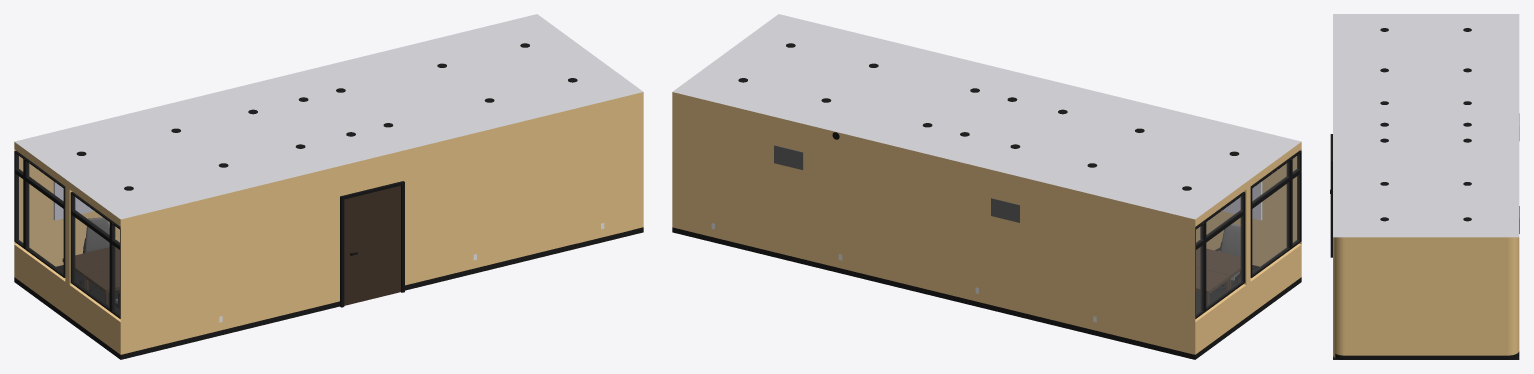
The model's file is RR Experience Room 2015.fbx.
3 views of the same model, side by side, from view 1: azimuth 30°, elevation 25°; view 2: azimuth 150°, elevation 25°; view 3: azimuth 270°, elevation 25° (orthographic). The views are drawn at different scales.
Visible parts, largest first — view 1: Walls.001, Ceiling.001, CurvedWall.001, Window.001, Door.001, Cube.012, DoorFrame.001, SittingStandingTable.005, SittingStandingTable.006, Plane.090, BigLightsOn.003; view 2: Walls.001, Ceiling.001, CurvedWall.001, Window.001, Cube.012, SittingStandingTable.006, BigLightsOn.003, SittingStandingTable.005, Hvac Wall Grill.004, Plane.070, Hvac Wall Grill.005, Whiteboard.003; view 3: Ceiling.001, CurvedWall.001, BigLightsOn.003, DoorFrame.001.
Part boxes in pixels (x1,y1,x2,y2): Walls.001: (14, 92, 643, 359); Ceiling.001: (14, 14, 643, 219); CurvedWall.001: (577, 94, 632, 248); Window.001: (18, 156, 119, 314); Door.001: (344, 185, 400, 305); Cube.012: (14, 150, 120, 318); DoorFrame.001: (340, 181, 404, 307); SittingStandingTable.005: (62, 247, 119, 288); SittingStandingTable.006: (84, 265, 119, 304); Plane.090: (85, 217, 109, 252); BigLightsOn.003: (76, 43, 577, 190); Walls.001: (672, 92, 1301, 359); Ceiling.001: (672, 14, 1301, 219); CurvedWall.001: (683, 97, 738, 247); Window.001: (1196, 156, 1297, 314); Cube.012: (1195, 150, 1301, 318); SittingStandingTable.006: (1196, 247, 1240, 289); BigLightsOn.003: (738, 43, 1239, 190); SittingStandingTable.005: (1196, 267, 1230, 305); Hvac Wall Grill.004: (774, 145, 803, 169); Plane.070: (1221, 223, 1240, 256); Hvac Wall Grill.005: (991, 198, 1019, 222); Whiteboard.003: (1222, 181, 1262, 220); Ceiling.001: (1333, 14, 1519, 237); CurvedWall.001: (1333, 237, 1519, 359); BigLightsOn.003: (1380, 28, 1471, 221); DoorFrame.001: (1330, 134, 1332, 257).
Bounding box in the file's own units: 1069 × 275 × 385.
